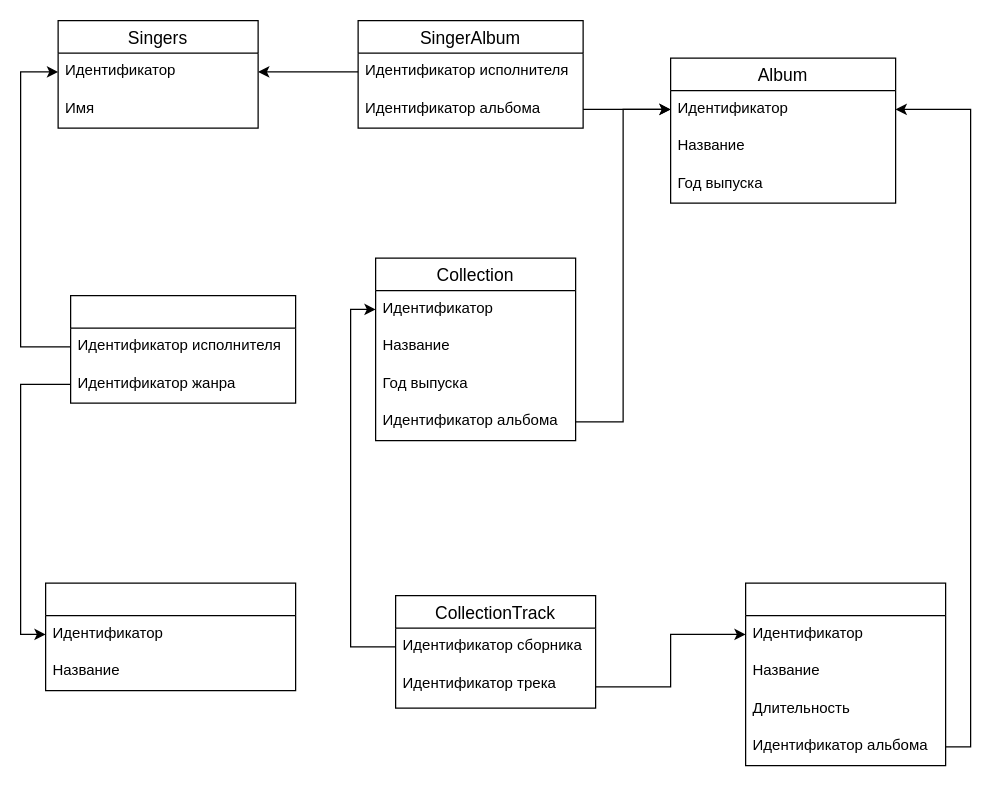
Some shapes in this 991 by 786 pixel diagram are drawn without their labels. The box of each missing label's shape, as (x1, y1, x2, y2) in pixels:
Genre: (44, 582, 296, 691)
GenreSinger: (69, 294, 296, 403)
Tracks: (744, 582, 946, 766)
